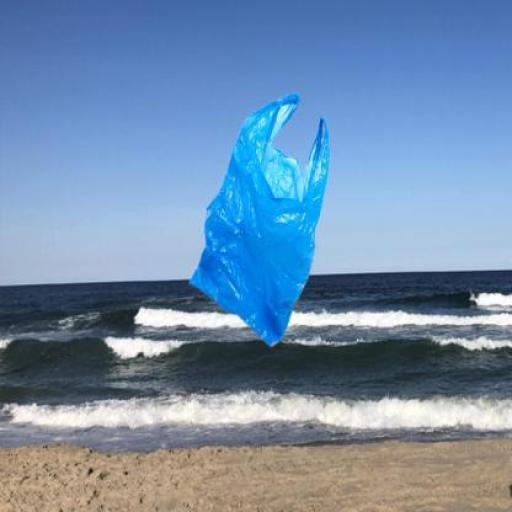plastic bag: (186, 93, 332, 362)
